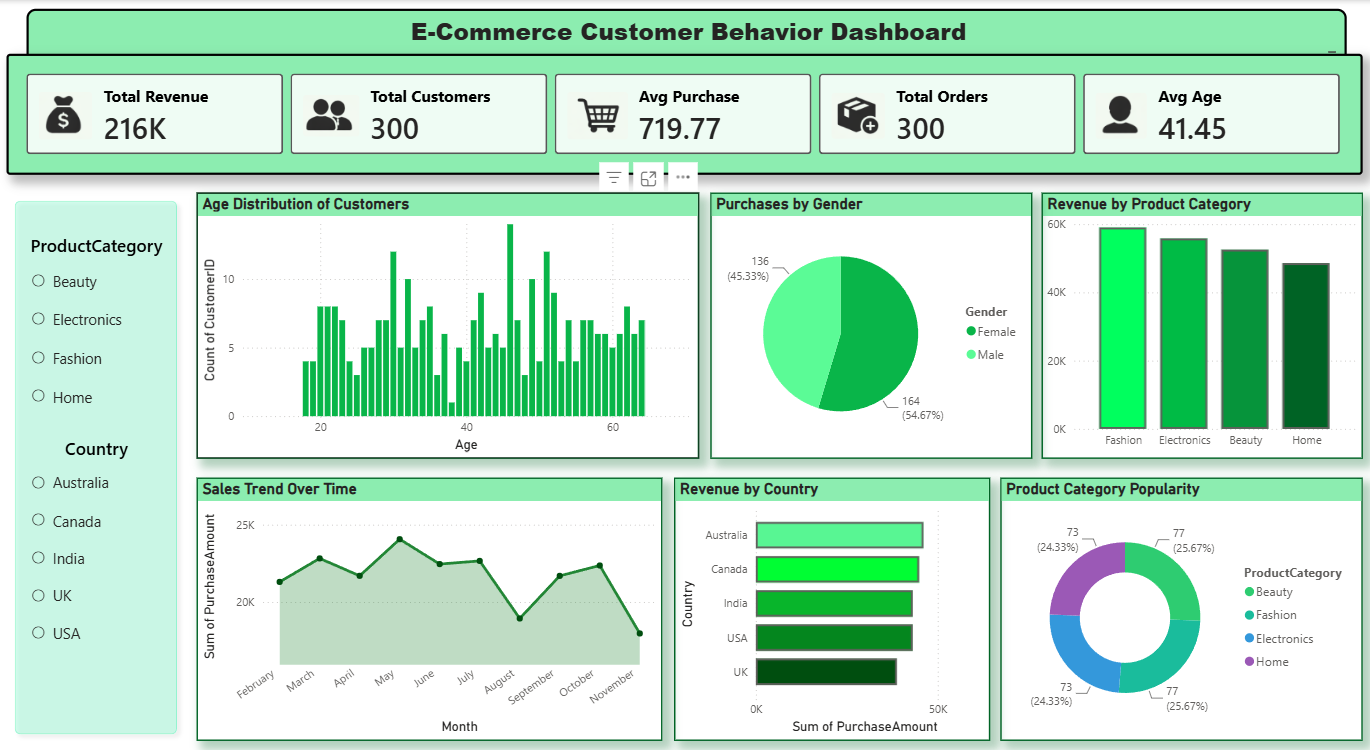

What the dashboard file says about the page in this screenshot:
{"tool":"powerbi","page":{"name":"Page 1","canvas":[1500,820],"ordinal":0},"visuals":[{"type":"textbox","title":"E-Commerce Customer Behavior Dashboard","box":[30,9.5,1439,60],"z":0},{"type":"cardVisual","fields":{"Data":["ecommerce_customer_behavior_dataset.Total Revenue","ecommerce_customer_behavior_dataset.Total  Customers","ecommerce_customer_behavior_dataset.Avg Purchase","ecommerce_customer_behavior_dataset.Total Orders","ecommerce_customer_behavior_dataset.Avg Age"]},"box":[8.2,58.6,1478.5,132.2],"z":1000},{"type":"clusteredColumnChart","title":"Revenue by Product Category","fields":{"Category":["ecommerce_customer_behavior_dataset.ProductCategory"],"Y":["Sum(ecommerce_customer_behavior_dataset.PurchaseAmount)"]},"box":[1136.4,209.8,350.2,290.2],"z":2000},{"type":"barChart","title":"Revenue by Country","fields":{"Category":["ecommerce_customer_behavior_dataset.Country"],"Y":["Sum(ecommerce_customer_behavior_dataset.PurchaseAmount)"]},"box":[735.8,520.5,344.8,287.5],"z":3000},{"type":"pieChart","title":"Purchases by Gender","fields":{"Category":["ecommerce_customer_behavior_dataset.Gender"],"Y":["CountNonNull(ecommerce_customer_behavior_dataset.CustomerID)"]},"box":[775.3,209.8,351.6,290.2],"z":4000},{"type":"lineChart","title":"Sales Trend Over Time","fields":{"Category":["ecommerce_customer_behavior_dataset.PurchaseDate.Variation.Date Hierarchy.Month"],"Y":["Sum(ecommerce_customer_behavior_dataset.PurchaseAmount)"]},"box":[215.3,520.5,508.3,287.5],"z":5000},{"type":"columnChart","title":"Age Distribution of Customers","fields":{"Category":["ecommerce_customer_behavior_dataset.Age"],"Y":["CountNonNull(ecommerce_customer_behavior_dataset.CustomerID)"]},"box":[215.3,209.8,547.8,290.2],"z":6000},{"type":"donutChart","title":"Product Category Popularity","fields":{"Category":["ecommerce_customer_behavior_dataset.ProductCategory"],"Y":["CountNonNull(ecommerce_customer_behavior_dataset.CustomerID)"]},"box":[1091.5,520.5,395.2,287.5],"z":7000},{"type":"shape","box":[8.2,209.8,194.9,599.6],"z":7500},{"type":"listSlicer","fields":{"Values":["ecommerce_customer_behavior_dataset.Country"]},"box":[28.6,475.6,155.3,243.9],"z":8000},{"type":"listSlicer","fields":{"Values":["ecommerce_customer_behavior_dataset.ProductCategory"]},"box":[28.6,254.8,155.3,203],"z":9000}]}

Visuals, with their boxes in screenshot pixels (x1, y1, x2, y2), scaled from the page's 1500x820 canvas onto the 1370x750 screenshot:
"E-Commerce Customer Behavior Dashboard" textbox: detection(27, 9, 1342, 64)
cardVisual - ecommerce_customer_behavior_dataset.Total Revenue x ecommerce_customer_behavior_dataset.Total  Customers: detection(7, 54, 1358, 175)
"Revenue by Product Category" clusteredColumnChart: detection(1038, 192, 1358, 457)
"Revenue by Country" barChart: detection(672, 476, 987, 739)
"Purchases by Gender" pieChart: detection(708, 192, 1029, 457)
"Sales Trend Over Time" lineChart: detection(197, 476, 661, 739)
"Age Distribution of Customers" columnChart: detection(197, 192, 697, 457)
"Product Category Popularity" donutChart: detection(997, 476, 1358, 739)
shape: detection(7, 192, 185, 740)
listSlicer - ecommerce_customer_behavior_dataset.Country: detection(26, 435, 168, 658)
listSlicer - ecommerce_customer_behavior_dataset.ProductCategory: detection(26, 233, 168, 419)
